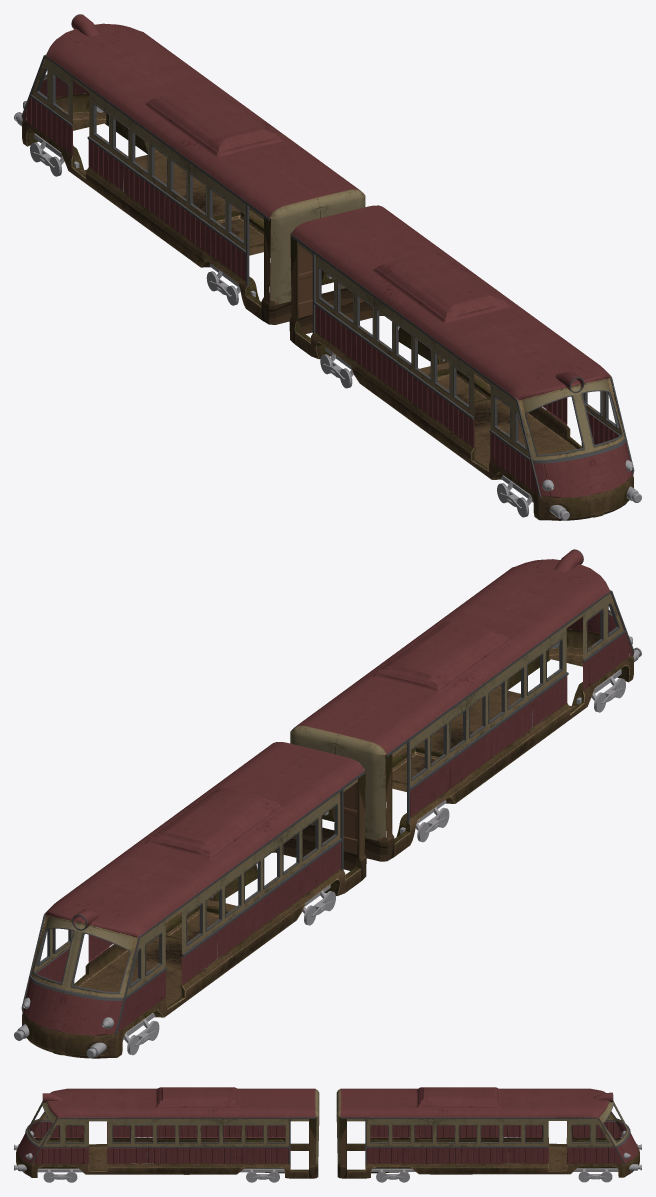
Rendered from train_body.obj.
3 renders of one model, top to bottom at view 1: azimuth 30°, elevation 25°; view 2: azimuth 150°, elevation 25°; view 3: azimuth 270°, elevation 25°, orthographic. The views are drawn at different scales.
Parts seen in each view (by area): view 1: trainbody.001; view 2: trainbody.001; view 3: trainbody.001.
Boxes of the visible parts, bbox=[...] form: trainbody.001: bbox=[14, 14, 641, 520]; trainbody.001: bbox=[14, 549, 641, 1058]; trainbody.001: bbox=[14, 1087, 641, 1182].
Size of the model in its own units: 0.384 by 0.4561 by 3.42.
